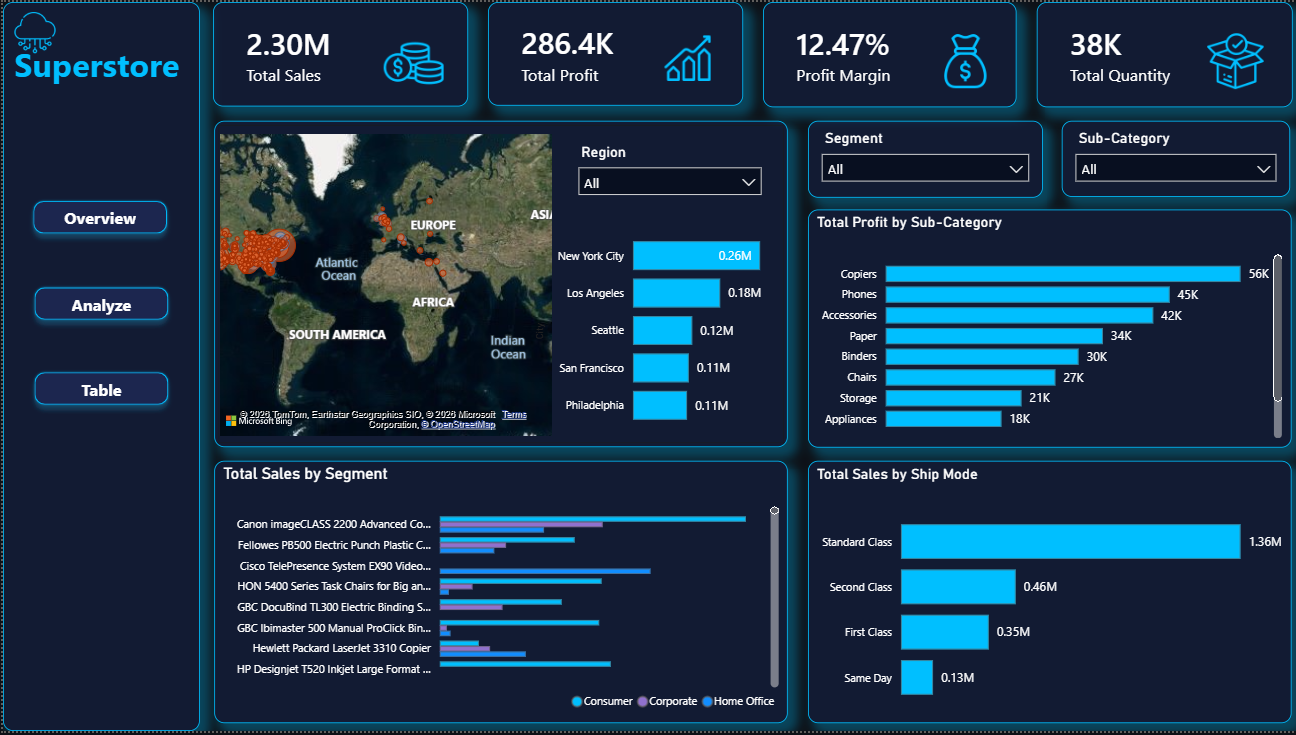

Layout of this report page (visuals, bound fields, positions):
{"tool":"powerbi","page":{"name":"Analyze ","canvas":[1280,720],"ordinal":1},"visuals":[{"type":"cardVisual","fields":{"Data":["DAX_Measure (2).Total Sales"]},"box":[206.9,0,252,103],"z":0},{"type":"cardVisual","fields":{"Data":["DAX_Measure (2).Total Profit"]},"box":[478.3,0,251.2,103],"z":1000},{"type":"cardVisual","fields":{"Data":["DAX_Measure (2).Total Quantity"]},"box":[1017.9,0,252.4,103.6],"z":2000},{"type":"slicer","fields":{"Values":["Dim_Sub-Category.Sub-Category"]},"box":[1044,116.7,226.2,76.2],"z":3000},{"type":"slicer","fields":{"Values":["Dim_Segment.Segment"]},"box":[795.2,116.7,232.1,76.2],"z":4000},{"type":"shape","box":[0,0,194,720.2],"z":5000},{"type":"actionButton","box":[20.4,188.1,150,50],"z":6000},{"type":"actionButton","box":[21.9,272.4,150,50],"z":7000},{"type":"actionButton","box":[22.5,356.7,150,50],"z":8000},{"type":"textbox","box":[6,34.7,190.5,63.1],"z":9000},{"type":"image","box":[0,9.7,63.1,40.5],"z":10000},{"type":"shape","box":[208.3,117.9,566.7,322.6],"z":11000},{"type":"map","fields":{"Category":["Dim_Country.City"],"Size":["DAX_Measure (2).Total Sales"]},"box":[209.5,126.2,336.9,307.1],"z":12000},{"type":"slicer","fields":{"Values":["Dim_Region.Region"]},"box":[558.3,134.5,201.2,69],"z":13000},{"type":"barChart","fields":{"Category":["Dim_Country.City"],"Y":["DAX_Measure (2).Total Sales"]},"box":[521.4,208.3,272.6,225],"z":14000},{"type":"clusteredBarChart","fields":{"Category":["Dim_Sub-Category.Sub-Category"],"Y":["DAX_Measure (2).Total Profit"]},"box":[795.2,204.8,477.4,235],"z":15000},{"type":"image","box":[370.2,31,70.2,59.5],"z":16000},{"type":"image","box":[640.5,25,60.7,61.9],"z":17000},{"type":"image","box":[1176.2,31,65,56],"z":18000},{"type":"clusteredBarChart","title":"Total Sales by Segment","fields":{"Category":["Dim_Product.Product Name"],"Y":["DAX_Measure (2).Total Sales"],"Series":["Dim_Segment.Segment"]},"box":[208.3,453.6,566.7,259.5],"z":19000},{"type":"clusteredBarChart","fields":{"Y":["DAX_Measure (2).Total Sales"],"Category":["Dim_Ship Mode.Ship Mode"]},"box":[795.2,453.6,477.4,259.5],"z":20000},{"type":"cardVisual","fields":{"Data":["DAX_Measure (2).Profit Margin"]},"box":[747.6,0,251.2,103.6],"z":21000},{"type":"image","box":[911.9,31,65,56],"z":22000}]}

Visuals, with their boxes in screenshot pixels (x1, y1, x2, y2), scaled from the page's 1280x720 canvas onto the 1296x735 screenshot:
cardVisual - DAX_Measure (2).Total Sales: box=[209, 0, 465, 105]
cardVisual - DAX_Measure (2).Total Profit: box=[484, 0, 739, 105]
cardVisual - DAX_Measure (2).Total Quantity: box=[1031, 0, 1286, 106]
slicer - Dim_Sub-Category.Sub-Category: box=[1057, 119, 1286, 197]
slicer - Dim_Segment.Segment: box=[805, 119, 1040, 197]
shape: box=[0, 0, 196, 734]
actionButton: box=[21, 192, 173, 243]
actionButton: box=[22, 278, 174, 329]
actionButton: box=[23, 364, 175, 415]
textbox: box=[6, 35, 199, 100]
image: box=[0, 10, 64, 51]
shape: box=[211, 120, 785, 450]
map - Dim_Country.City x DAX_Measure (2).Total Sales: box=[212, 129, 553, 442]
slicer - Dim_Region.Region: box=[565, 137, 769, 208]
barChart - Dim_Country.City x DAX_Measure (2).Total Sales: box=[528, 213, 804, 442]
clusteredBarChart - Dim_Sub-Category.Sub-Category x DAX_Measure (2).Total Profit: box=[805, 209, 1289, 449]
image: box=[375, 32, 446, 92]
image: box=[649, 26, 710, 89]
image: box=[1191, 32, 1257, 89]
"Total Sales by Segment" clusteredBarChart: box=[211, 463, 785, 728]
clusteredBarChart - DAX_Measure (2).Total Sales x Dim_Ship Mode.Ship Mode: box=[805, 463, 1289, 728]
cardVisual - DAX_Measure (2).Profit Margin: box=[757, 0, 1011, 106]
image: box=[923, 32, 989, 89]
